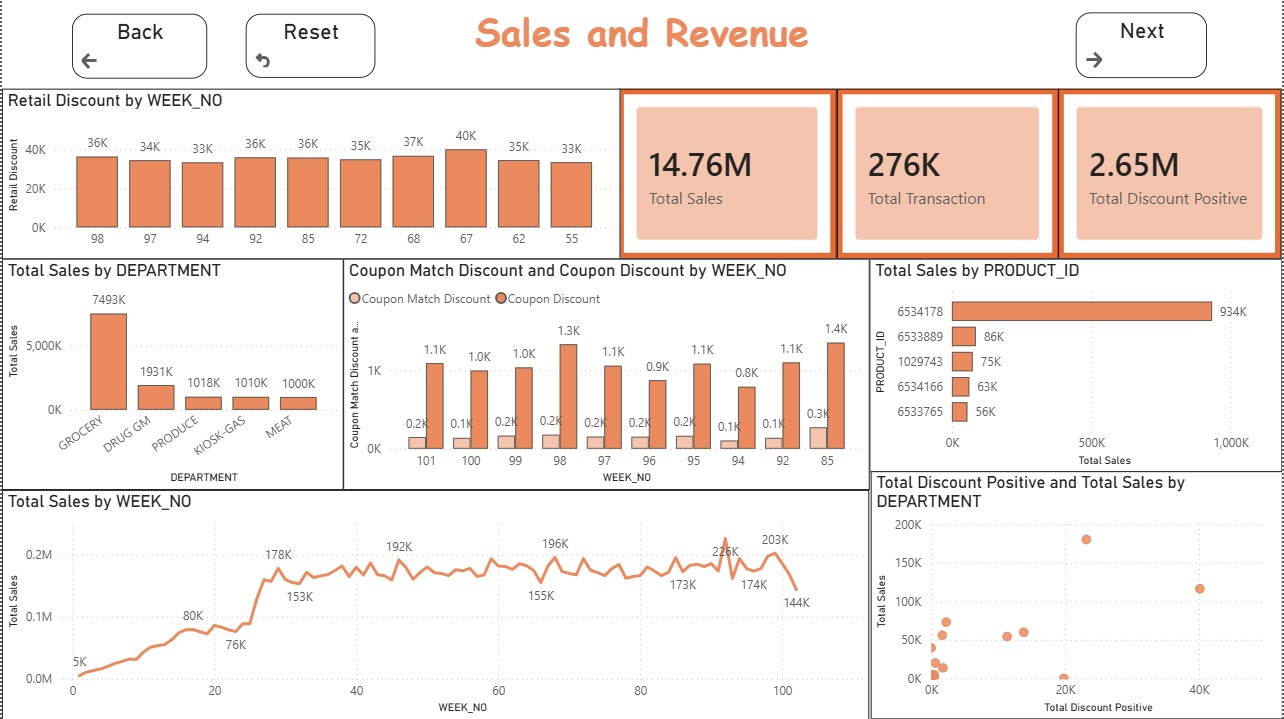

The dashboard page shown, as its layout file describes it:
{"tool":"powerbi","page":{"name":"Sales and Revenue Analysis","canvas":[1280,720],"ordinal":9},"visuals":[{"type":"cardVisual","fields":{"Data":["Transaction.Total Transaction"]},"box":[835,88.3,221.7,170],"z":0},{"type":"cardVisual","fields":{"Data":["KPI.Total Sales"]},"box":[616.7,88.3,218.3,170],"z":1000},{"type":"cardVisual","fields":{"Data":["Transaction.Total Discount Positive"]},"box":[1056.7,88.3,223.3,170],"z":2000},{"type":"clusteredColumnChart","fields":{"Category":["Transaction.WEEK_NO"],"Y":["Transaction.Retail Discount"]},"box":[0,88.3,618.3,170],"z":3000},{"type":"columnChart","fields":{"Y":["KPI.Total Sales"],"Category":["product.DEPARTMENT"]},"box":[0,258.8,341.2,231.2],"z":4000},{"type":"clusteredColumnChart","fields":{"Category":["Transaction.WEEK_NO"],"Y":["Transaction.Coupon Match Discount","Transaction.Coupon Discount"]},"box":[341.2,258.8,526.2,231.2],"z":5000},{"type":"barChart","fields":{"Y":["KPI.Total Sales"],"Category":["product.PRODUCT_ID"]},"box":[867.5,258.8,412.5,213.8],"z":6000},{"type":"lineChart","fields":{"Category":["Transaction.WEEK_NO"],"Y":["KPI.Total Sales"]},"box":[0,490,867.5,230],"z":7000},{"type":"scatterChart","fields":{"Category":["product.DEPARTMENT"],"X":["Transaction.Total Discount Positive"],"Y":["KPI.Total Sales"]},"box":[868.3,471.7,411.7,248.3],"z":8000},{"type":"textbox","box":[0,0,1280,88.3],"z":9000},{"type":"actionButton","title":"Next","box":[1074.3,12.9,131.4,65.7],"z":10000},{"type":"actionButton","title":"Back","box":[70,13.3,135,65],"z":11000},{"type":"actionButton","title":"Reset","box":[243.5,13.9,129.4,64],"z":11001}]}

Visuals, with their boxes in screenshot pixels (x1, y1, x2, y2), scaled from the page's 1280x720 canvas onto the 1284x719 screenshot:
cardVisual - Transaction.Total Transaction: (left=838, top=88, right=1060, bottom=258)
cardVisual - KPI.Total Sales: (left=619, top=88, right=838, bottom=258)
cardVisual - Transaction.Total Discount Positive: (left=1060, top=88, right=1283, bottom=258)
clusteredColumnChart - Transaction.WEEK_NO x Transaction.Retail Discount: (left=0, top=88, right=620, bottom=258)
columnChart - KPI.Total Sales x product.DEPARTMENT: (left=0, top=258, right=342, bottom=489)
clusteredColumnChart - Transaction.WEEK_NO x Transaction.Coupon Match Discount: (left=342, top=258, right=870, bottom=489)
barChart - KPI.Total Sales x product.PRODUCT_ID: (left=870, top=258, right=1283, bottom=472)
lineChart - Transaction.WEEK_NO x KPI.Total Sales: (left=0, top=489, right=870, bottom=718)
scatterChart - product.DEPARTMENT x Transaction.Total Discount Positive: (left=871, top=471, right=1283, bottom=718)
textbox: (left=0, top=0, right=1283, bottom=88)
"Next" actionButton: (left=1078, top=13, right=1209, bottom=78)
"Back" actionButton: (left=70, top=13, right=206, bottom=78)
"Reset" actionButton: (left=244, top=14, right=374, bottom=78)
